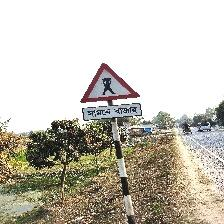Market-in-front: (80, 63, 141, 122)
